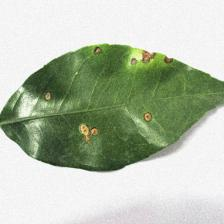canker: (84, 43, 174, 74)
